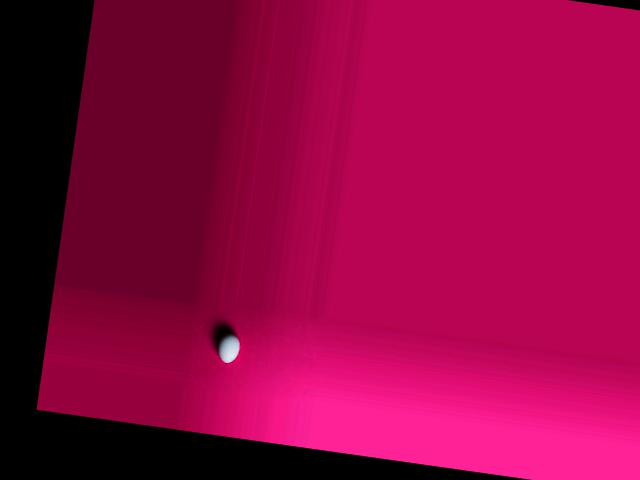egg: (216, 331, 242, 364)
